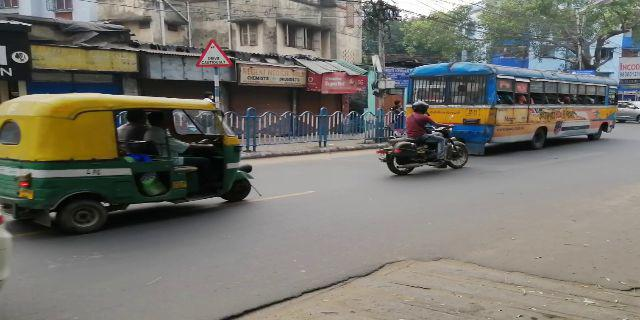Autorickshaw: (6, 97, 254, 218)
Bus: (409, 62, 622, 146)
Motorbike: (377, 102, 471, 174)
